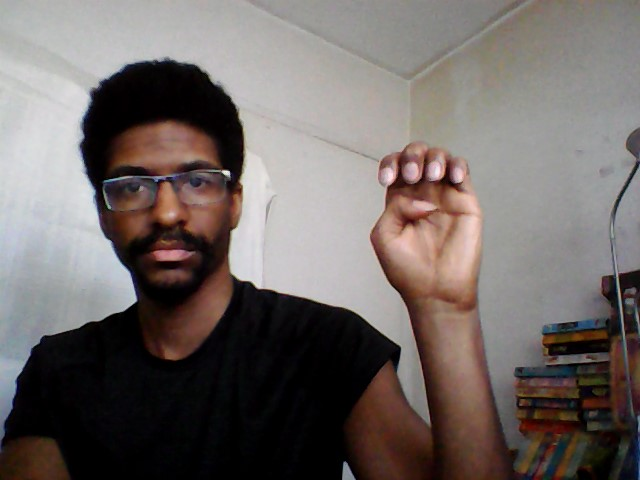e: (365, 136, 489, 315)
